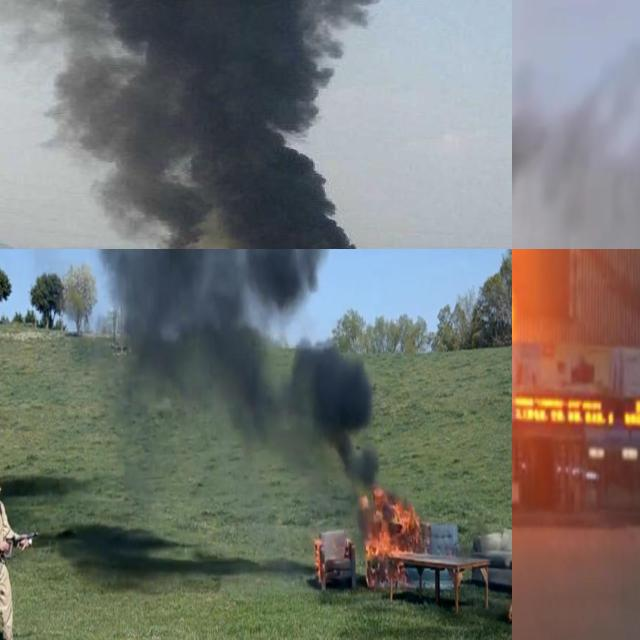fire: (360, 487, 423, 590), (313, 536, 325, 586)
smoke: (0, 0, 384, 249), (100, 249, 379, 499), (512, 2, 640, 247)
